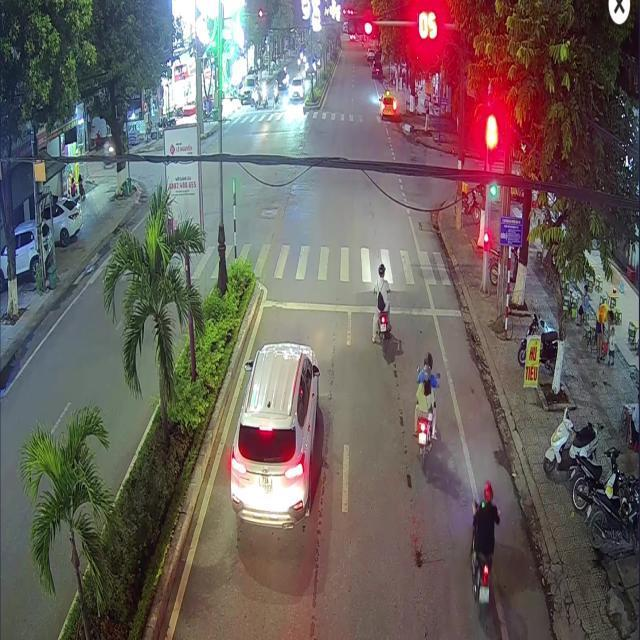car: (229, 342, 318, 526)
motobike: (413, 361, 438, 473), (370, 268, 391, 343)
red_light: (484, 110, 498, 172), (345, 13, 372, 38)
stop_line: (262, 299, 460, 316)
